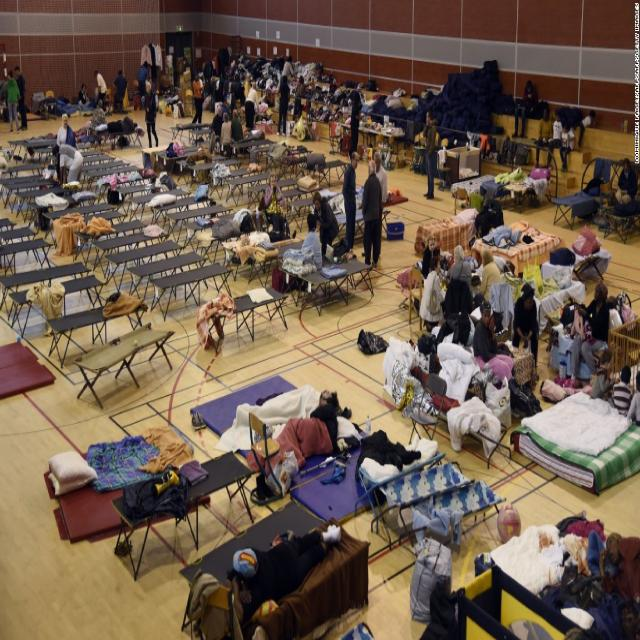body: (226, 521, 344, 626), (568, 277, 611, 390), (598, 529, 640, 636), (235, 386, 339, 425), (471, 298, 515, 388), (361, 150, 388, 258), (512, 281, 540, 383), (359, 156, 383, 273), (418, 255, 446, 333), (342, 150, 360, 260), (473, 247, 502, 313), (312, 190, 339, 258), (511, 76, 539, 140), (421, 109, 438, 202), (263, 170, 286, 237), (532, 104, 555, 170), (589, 349, 618, 401), (310, 401, 338, 453), (300, 212, 323, 272), (51, 143, 83, 185), (611, 363, 634, 417), (614, 156, 638, 207), (4, 68, 22, 136), (143, 79, 160, 149), (449, 244, 473, 293), (347, 91, 364, 159), (545, 110, 564, 170), (274, 73, 290, 138), (13, 65, 28, 132), (573, 107, 596, 150), (420, 233, 439, 281), (625, 369, 640, 428), (207, 105, 224, 157), (190, 70, 204, 132), (244, 80, 260, 134), (99, 114, 138, 135), (92, 67, 108, 116), (558, 120, 572, 175), (136, 59, 150, 114), (112, 68, 128, 115), (292, 74, 307, 122), (56, 112, 76, 148), (280, 55, 294, 101), (219, 111, 233, 157), (180, 56, 195, 98), (92, 98, 106, 132), (0, 76, 10, 123), (230, 108, 243, 142), (78, 82, 90, 110), (244, 72, 252, 102), (221, 95, 229, 124)
